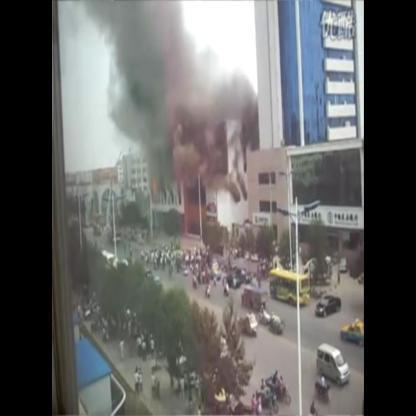smoke: (170, 50, 234, 136), (84, 1, 189, 50), (110, 53, 169, 137), (153, 137, 223, 186), (233, 66, 258, 141)
